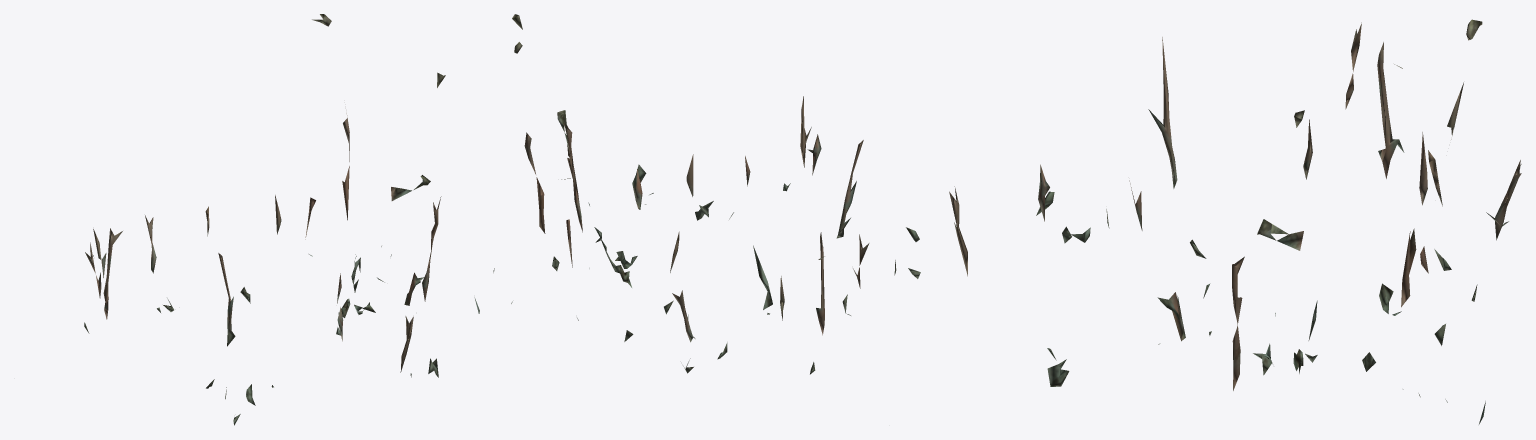
Rendered from haunted-bush-2.glb.
3 renders of one model, left to right at view 1: azimuth 30°, elevation 25°; view 2: azimuth 150°, elevation 25°; view 3: azimuth 270°, elevation 25°, orthographic. The views are drawn at different scales.
Visible parts, largest first — view 1: geometry_0; view 2: geometry_0; view 3: geometry_0.
Part boxes in pixels (bbox=[...]): geometry_0: bbox=[84, 14, 445, 425]; geometry_0: bbox=[474, 14, 920, 374]; geometry_0: bbox=[949, 19, 1521, 424].
Bounding box in the file's own units: 0.6977 × 0.4793 × 0.5954.
Materials: 1 (1 with a texture image).
